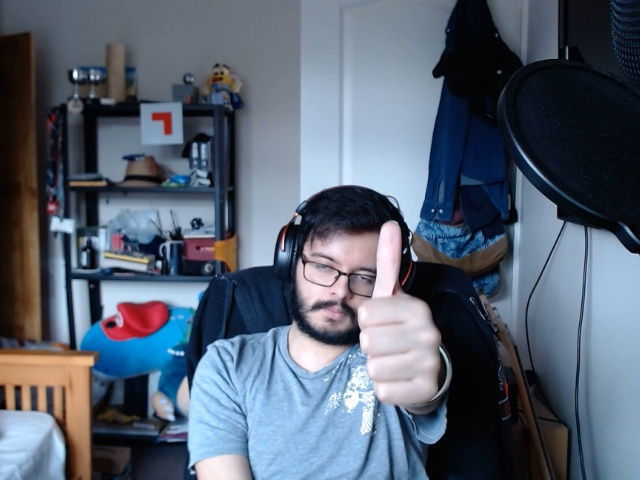Thumbs up: (356, 215, 455, 413)
